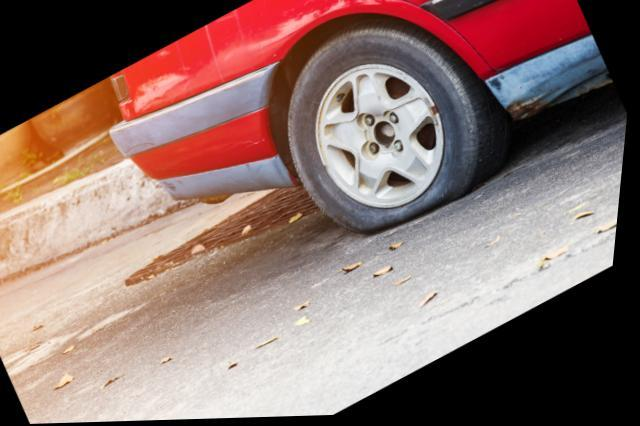tire flat: (287, 17, 513, 237)
